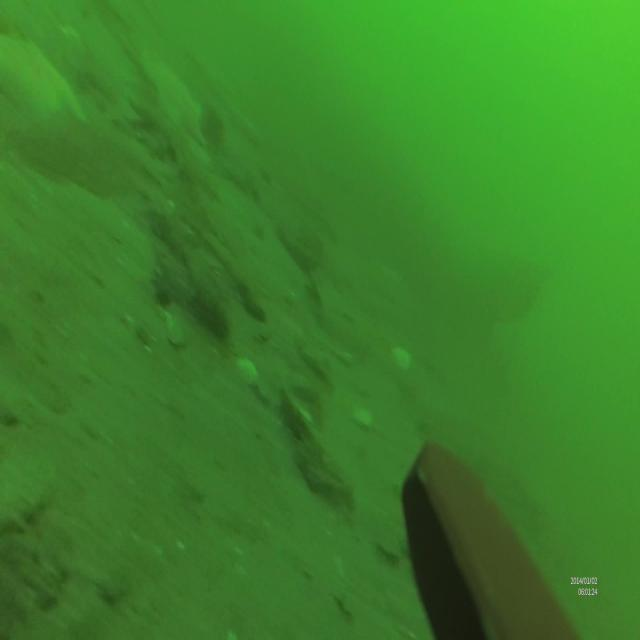scallop: (236, 356, 258, 385), (351, 403, 373, 430), (392, 343, 412, 371)
